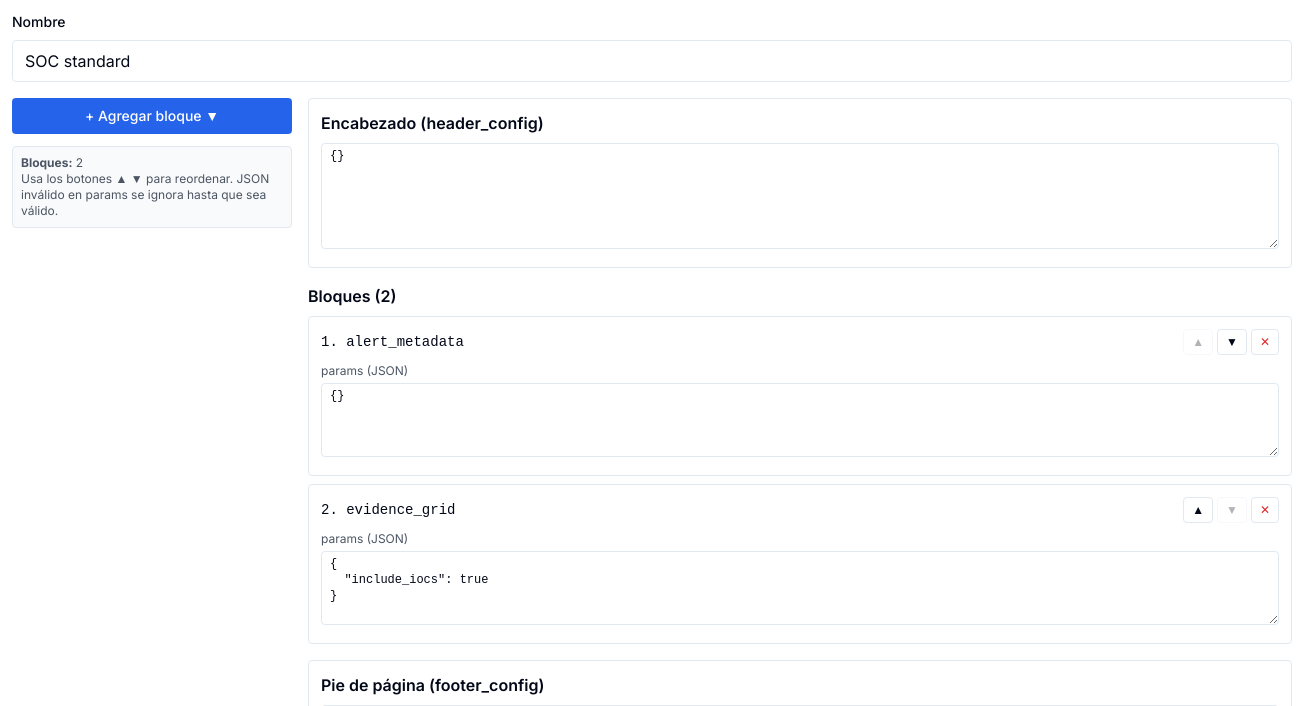
it: AlertReportTemplateEditor › moves a block down when ▼ is clicked
Note: Click the first one (moves alert_metadata down → swaps with evidence_grid)
Click the button named "mover abajo" at (1232, 342), box [1217,329,1247,355]
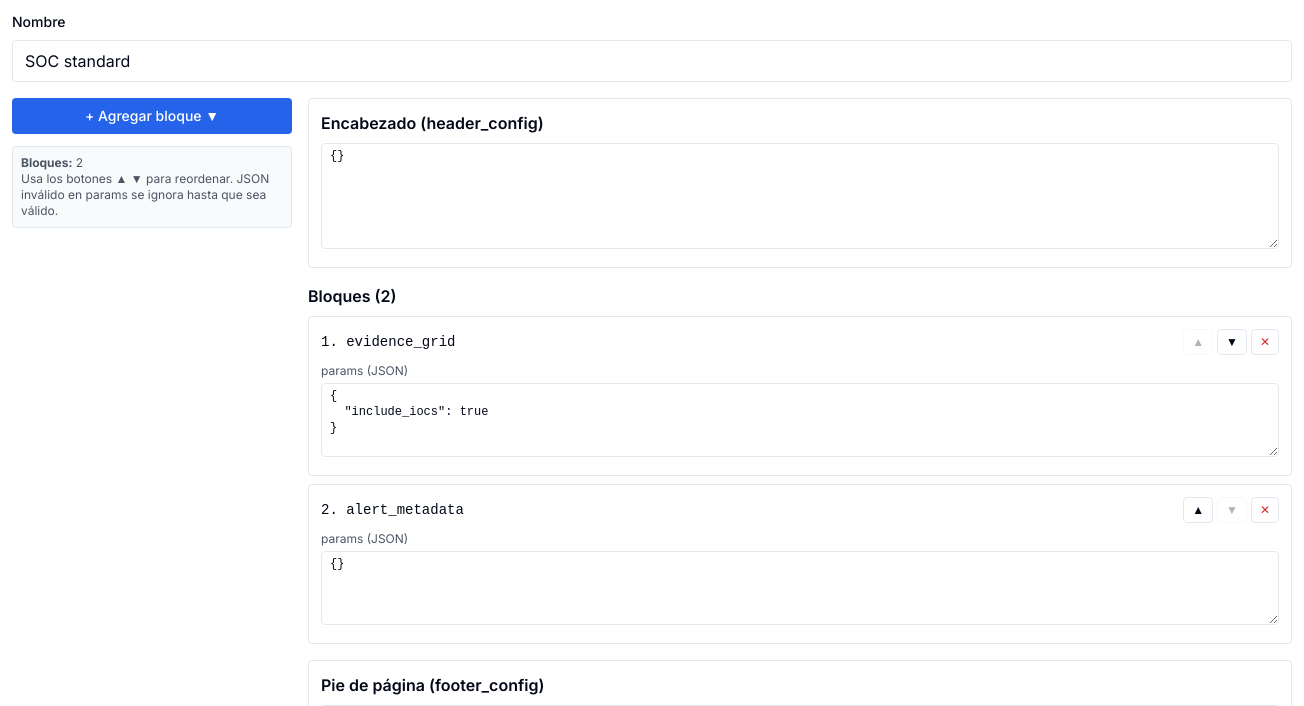
Expected: the text "1. evidence_grid" is shown, [321,332,455,352]
Expected: the text "2. alert_metadata" is shown, [321,500,464,520]
